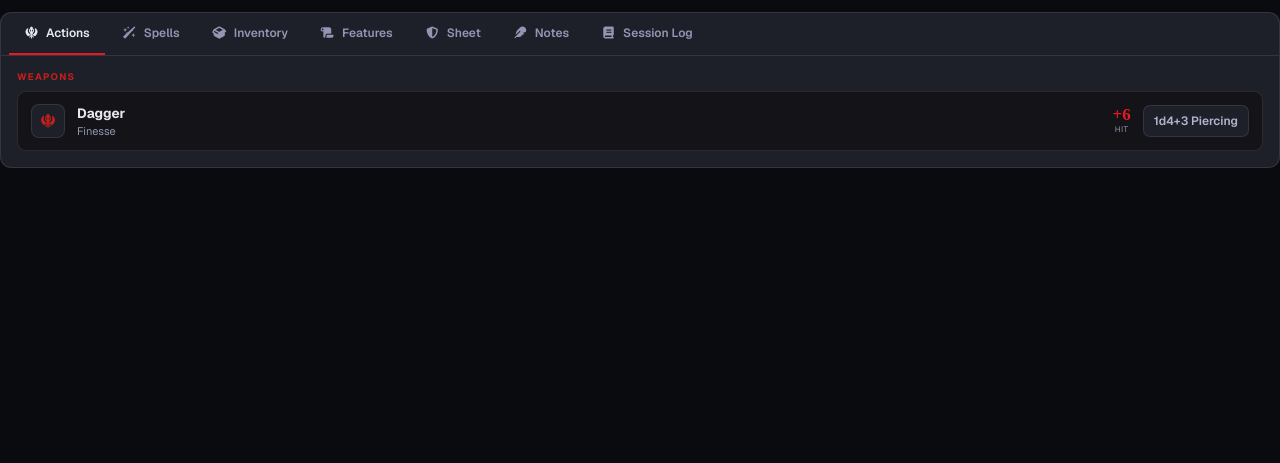
Test: ContentTabs › shows five coin cards and a load card on the Inventory tab
What coordinates should you click on to do the following:
click the tab "Inventory"
I would click on:
 (250, 34)
Its box is top-left (197, 13), bottom-right (303, 55).
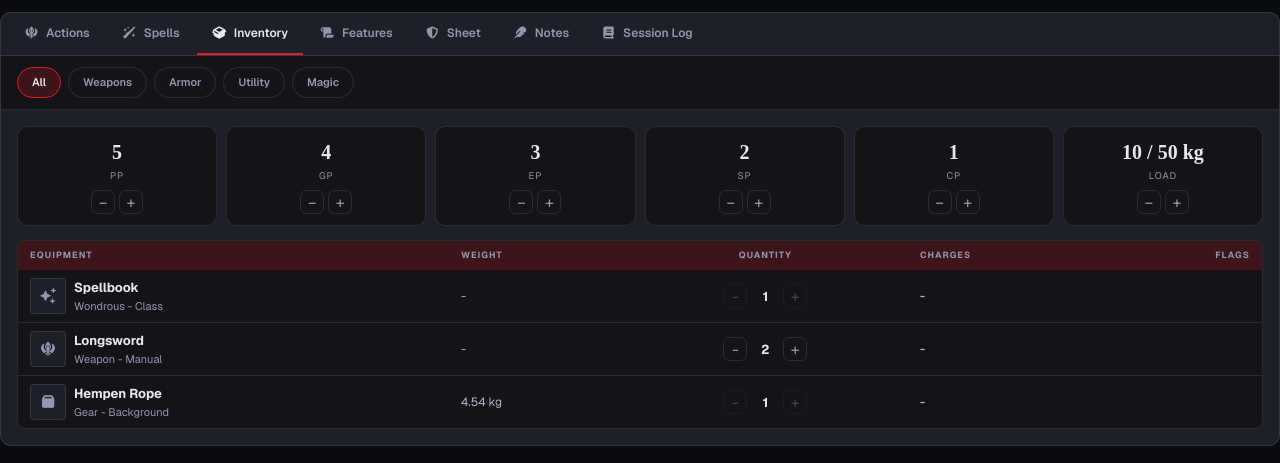
Expected: the text "PP" is shown, top-left (110, 168), bottom-right (124, 183)
Expected: the text "GP" is shown, top-left (319, 168), bottom-right (334, 183)
Expected: the text "EP" is shown, top-left (529, 168), bottom-right (542, 183)
